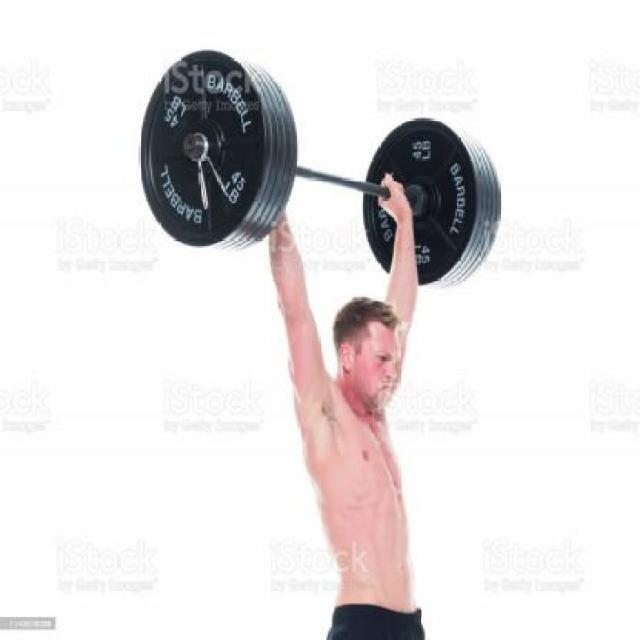Barbell: (172, 116, 216, 173)
